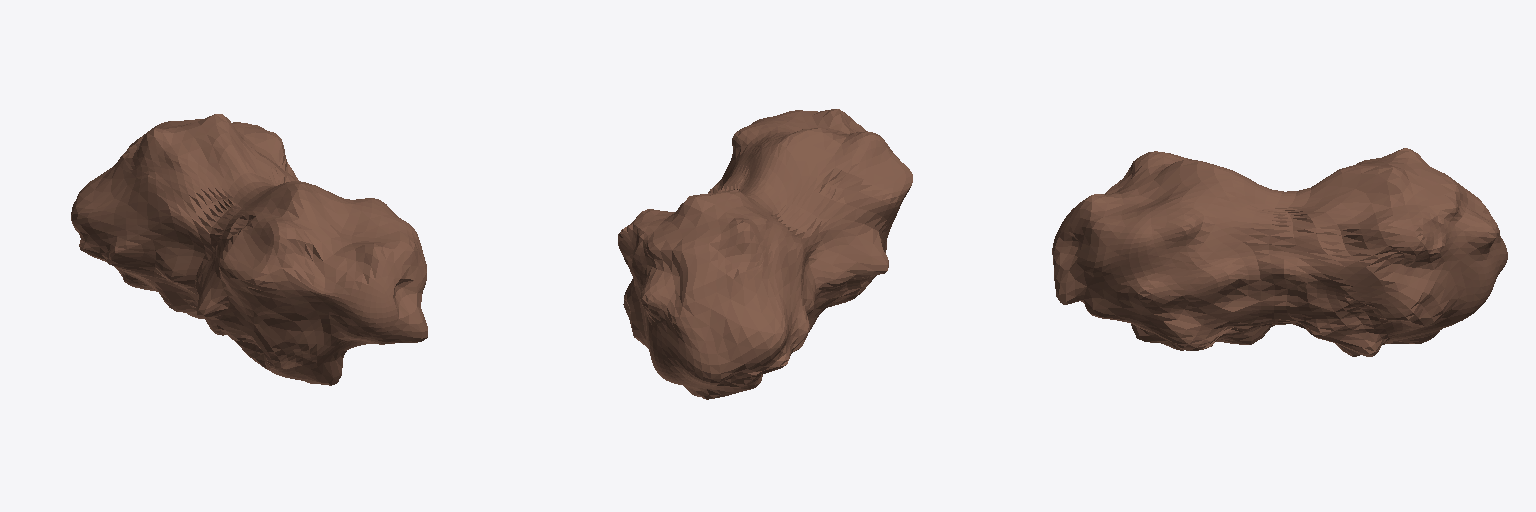
File: asteroid.obj
3 views of the same model, side by side, from view 1: azimuth 30°, elevation 25°; view 2: azimuth 150°, elevation 25°; view 3: azimuth 270°, elevation 25° (orthographic).
Visible parts, largest first — view 1: icosahedron1; view 2: icosahedron1; view 3: icosahedron1.
Boxes of the visible parts, box(x1,y1,x2,y2) form: icosahedron1: box(71, 114, 427, 385); icosahedron1: box(618, 109, 912, 399); icosahedron1: box(1052, 148, 1507, 356).
Bounding box in the file's own units: 58.93 × 55.42 × 119.